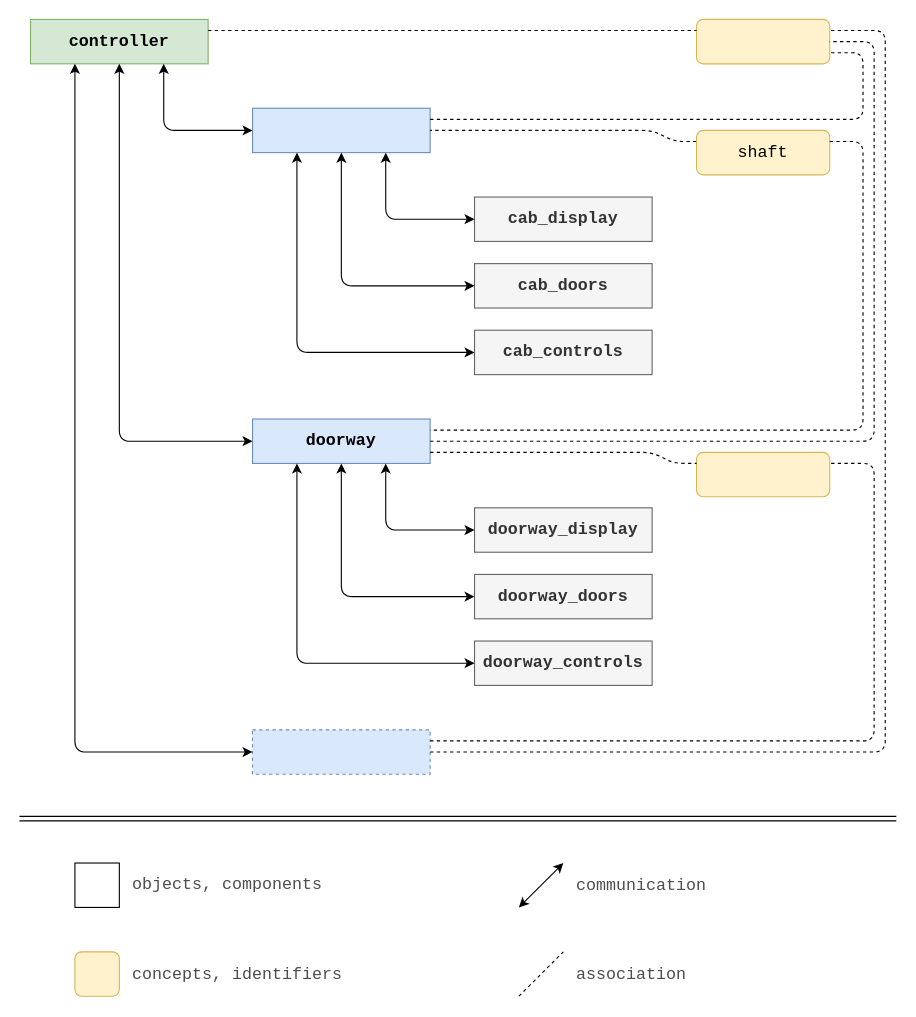
Image size: 916x1017. Some labels were removed from this diagram. Here are the shapes that lost their labels. From the top down, the centre of each, then its label:
At point 762,41: "bank".
At point 340,130: "cab".
At point 762,474: "floor".
At point 340,751: "call_buttons".
